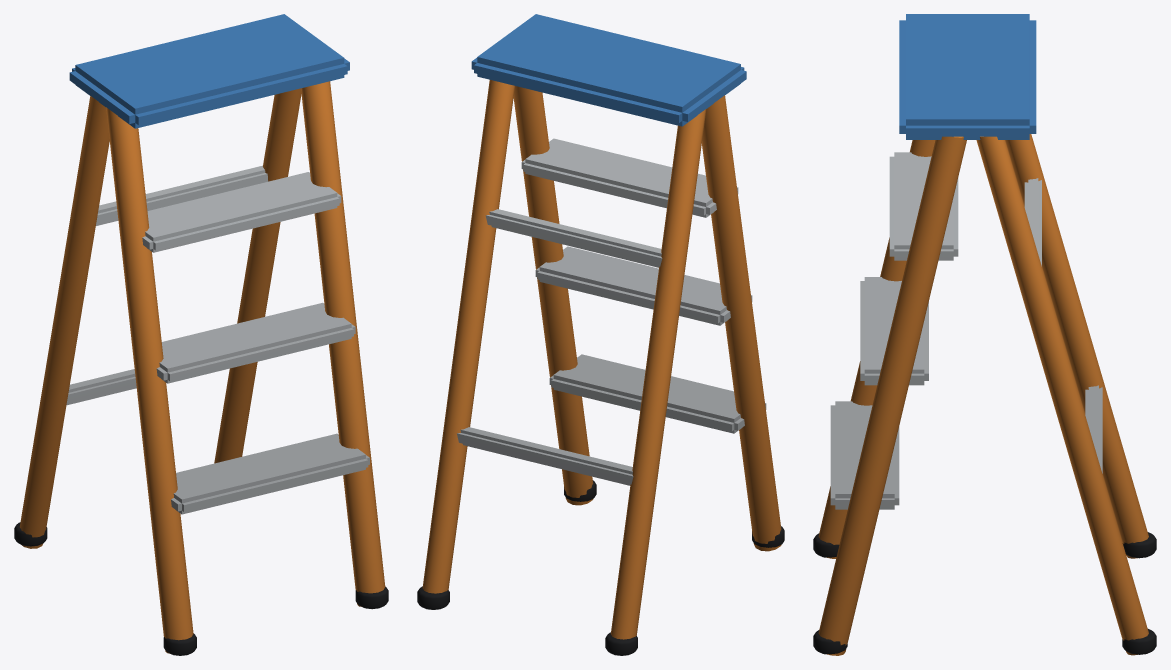
File: SM_StepLadder_01.glb
The picture shows the model from 3 angles, left to right: view 1: azimuth 30°, elevation 25°; view 2: azimuth 150°, elevation 25°; view 3: azimuth 270°, elevation 25°; orthographic projection. The views are drawn at different scales.
Parts seen in each view (by area): view 1: SM_StepLadder_01; view 2: SM_StepLadder_01; view 3: SM_StepLadder_01.
Boxes of the visible parts, <box> form: SM_StepLadder_01: <box>14,14,388,655</box>; SM_StepLadder_01: <box>417,14,784,655</box>; SM_StepLadder_01: <box>813,14,1156,655</box>.
Size of the model in its own units: 0.46 by 1.04 by 0.6.
Materials: 1 (1 with a texture image).
